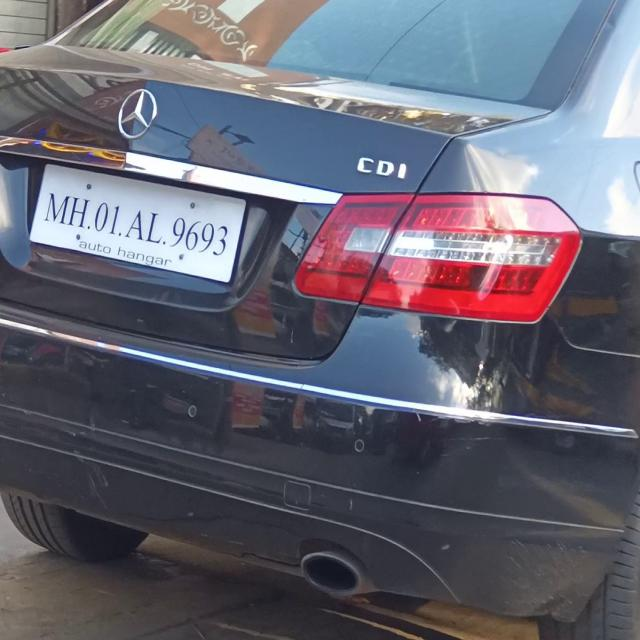Plate: (29, 160, 248, 284)
